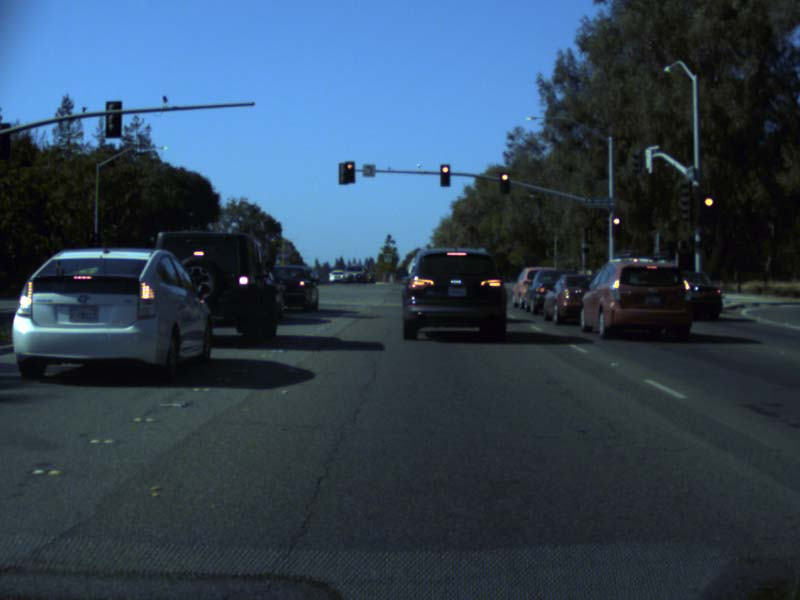Red: (699, 195, 716, 223), (342, 161, 355, 185), (440, 165, 450, 187), (613, 215, 622, 239), (500, 171, 509, 192)
